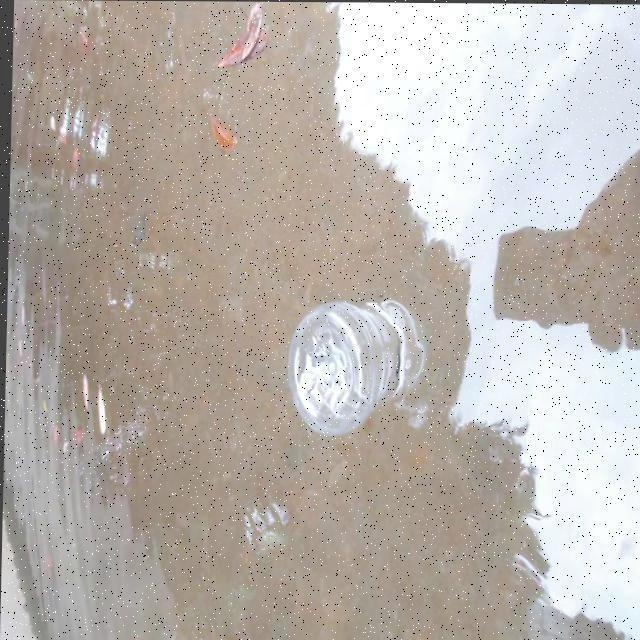Plastic: (281, 296, 425, 438)
